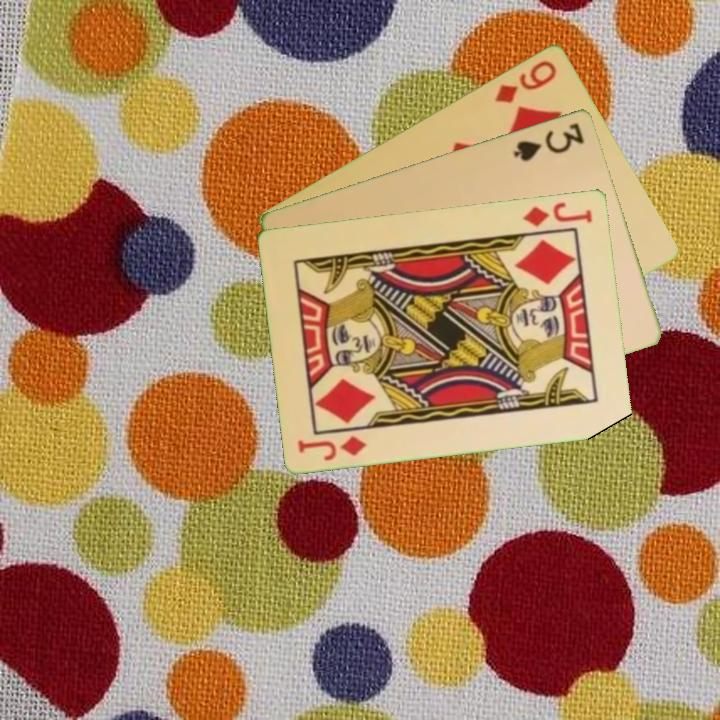3s: (510, 118, 588, 164)
9d: (491, 56, 560, 106)
Jd: (294, 431, 370, 463), (520, 198, 596, 229)
